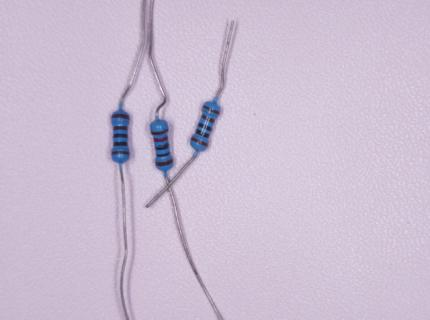Black band: (195, 129, 210, 138), (198, 122, 212, 131), (113, 141, 128, 146), (114, 133, 128, 138)
Brown band: (203, 105, 220, 115), (192, 137, 208, 147), (201, 114, 215, 124), (112, 114, 130, 119), (113, 126, 128, 131), (112, 151, 130, 155)
